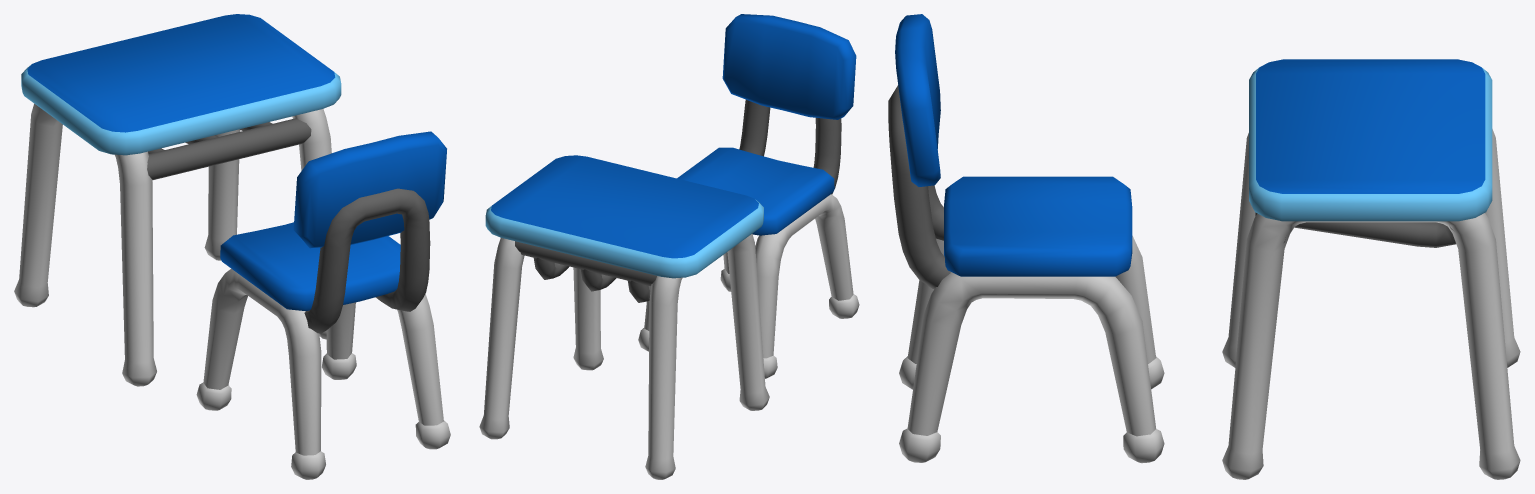
File: Studant Table Chair.fbx
The picture shows the model from 3 angles, left to right: view 1: azimuth 30°, elevation 25°; view 2: azimuth 150°, elevation 25°; view 3: azimuth 270°, elevation 25°; orthographic projection. The views are drawn at different scales.
Parts seen in each view (by area): view 1: Studant Table Chair; view 2: Studant Table Chair; view 3: Studant Table Chair.
Part boxes in pixels (x1,y1,x2,y2): Studant Table Chair: [14, 14, 450, 479]; Studant Table Chair: [479, 14, 859, 479]; Studant Table Chair: [888, 14, 1520, 479].
Bounding box in the file's own units: 6.35 × 8.02 × 12.08.
